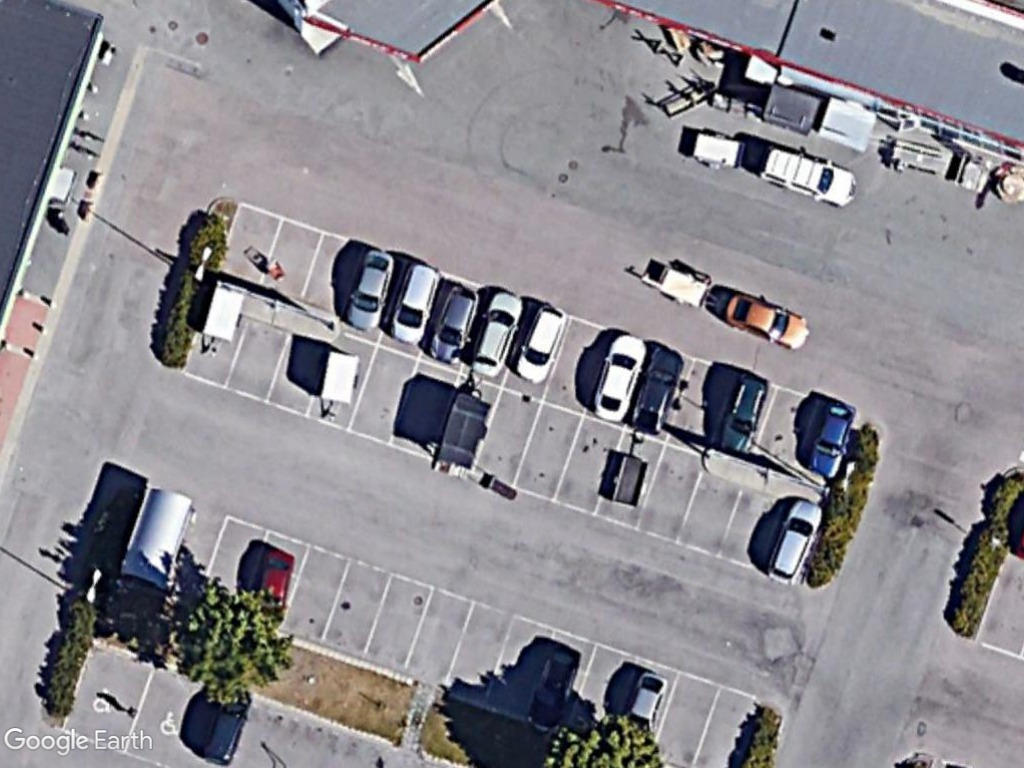car: (758, 145, 861, 213), (588, 331, 654, 426), (721, 289, 815, 354), (761, 498, 827, 589), (509, 300, 571, 388), (630, 346, 688, 435), (468, 288, 523, 379), (425, 281, 483, 365), (389, 258, 444, 346), (344, 245, 398, 334), (714, 373, 770, 456), (805, 400, 860, 483)
